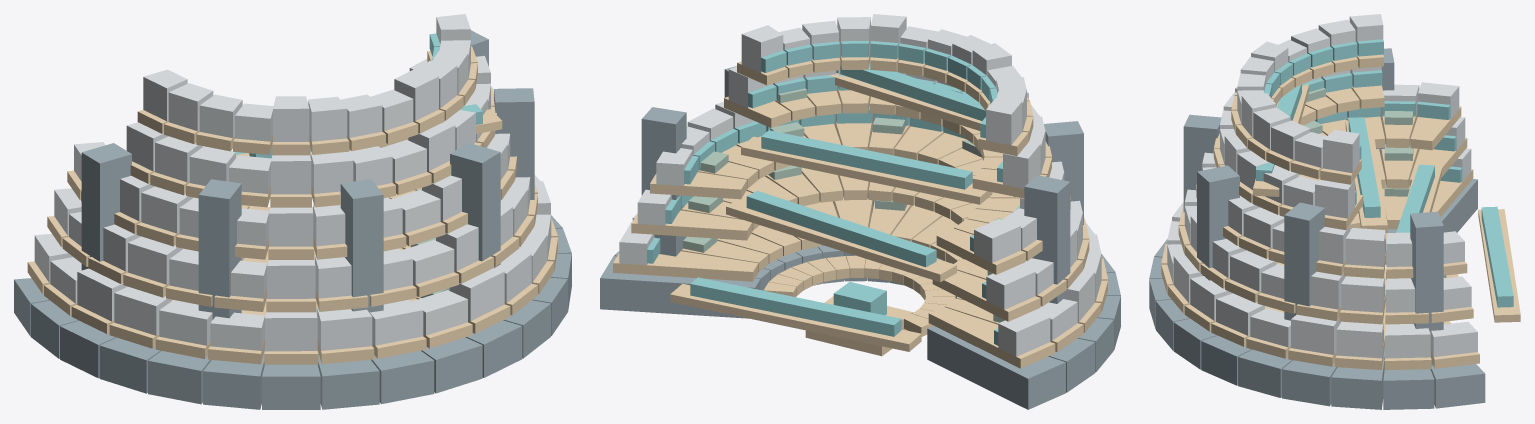
3 views of the same model, side by side, from view 1: azimuth 30°, elevation 25°; view 2: azimuth 150°, elevation 25°; view 3: azimuth 270°, elevation 25° (orthographic). The views are drawn at different scales.
Bounding box in the file's own units: 243 × 124 × 184.
